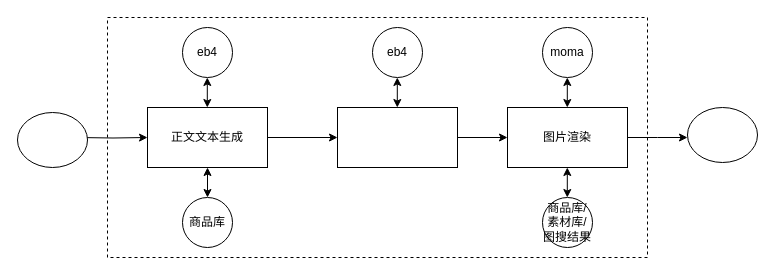
This 775x275 diagram has some shape labels left out. Each missing label, with the centre of its shape:
query doc 图片文本化结果: point (52, 140)
图文结果: point (722, 134)
图片文本生成: point (397, 137)
